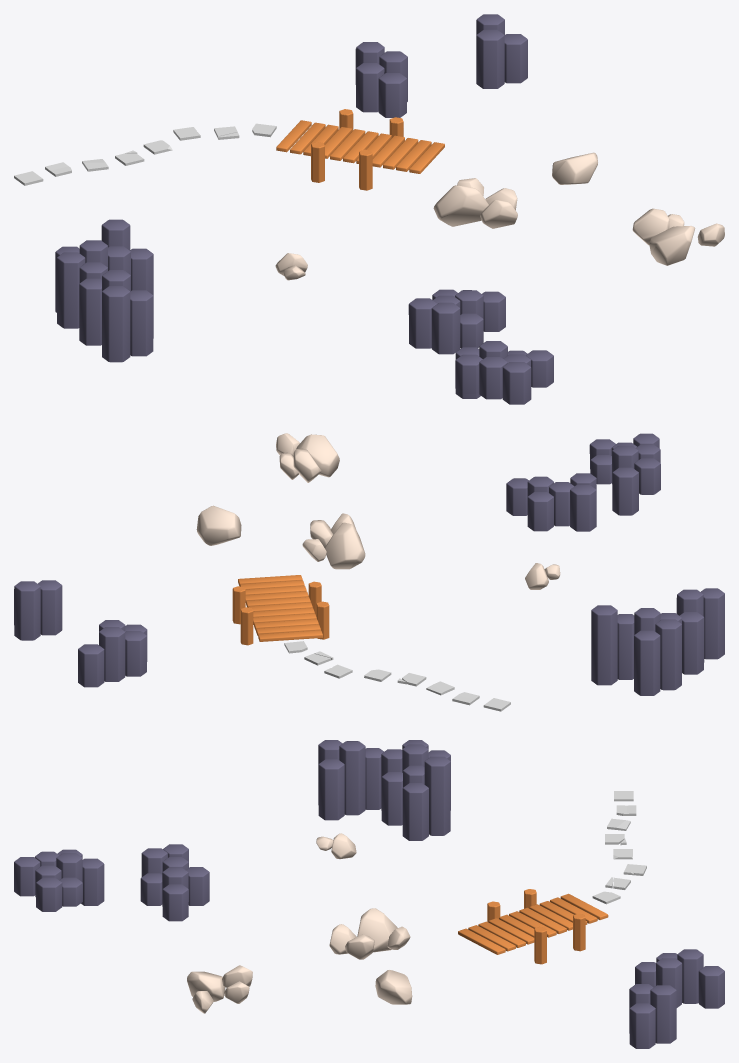
File: sceneryStaticVisual.glb
The picture shows the model from 3 angles, top to bottom: view 1: azimuth 30°, elevation 25°; view 2: azimuth 150°, elevation 25°; view 3: azimuth 270°, elevation 25°; orthographic projection. The views are drawn at different scales.
Parts seen in each view (by area): view 1: Cylinder.022, Cube.139, Cube.122, Cube.129, Cube.124, Cube.130, Cube.123; view 2: Cylinder.022, Cube.139, Cube.122, Cube.124, Cube.129, Cube.130, Cube.126; view 3: Cylinder.022, Cube.139, Cube.122, Cube.124, Cube.129, Cube.054, Cube.123, Cube.126.
Part boxes in pixels (left/top/right/bottom): Cylinder.022: left=55, top=14, right=553, bottom=404; Cube.139: left=276, top=109, right=444, bottom=190; Cube.122: left=433, top=185, right=488, bottom=226; Cube.129: left=649, top=226, right=695, bottom=265; Cube.124: left=552, top=152, right=597, bottom=184; Cube.130: left=632, top=208, right=669, bottom=245; Cube.123: left=480, top=200, right=517, bottom=228; Cylinder.022: left=14, top=433, right=724, bottom=695; Cube.139: left=232, top=575, right=329, bottom=645; Cube.122: left=325, top=522, right=365, bottom=569; Cube.124: left=196, top=505, right=241, bottom=545; Cube.129: left=296, top=434, right=339, bottom=477; Cube.130: left=293, top=448, right=321, bottom=482; Cube.126: left=525, top=563, right=548, bottom=589; Cylinder.022: left=14, top=740, right=724, bottom=1048; Cube.139: left=458, top=889, right=608, bottom=964; Cube.122: left=357, top=908, right=397, bottom=952; Cube.124: left=375, top=970, right=412, bottom=1004; Cube.129: left=187, top=971, right=225, bottom=1001; Cube.054: left=345, top=934, right=374, bottom=959; Cube.123: left=329, top=924, right=356, bottom=954; Cube.126: left=331, top=833, right=356, bottom=859.
Size of the model in its own units: 35 by 4.32 by 39.8.
